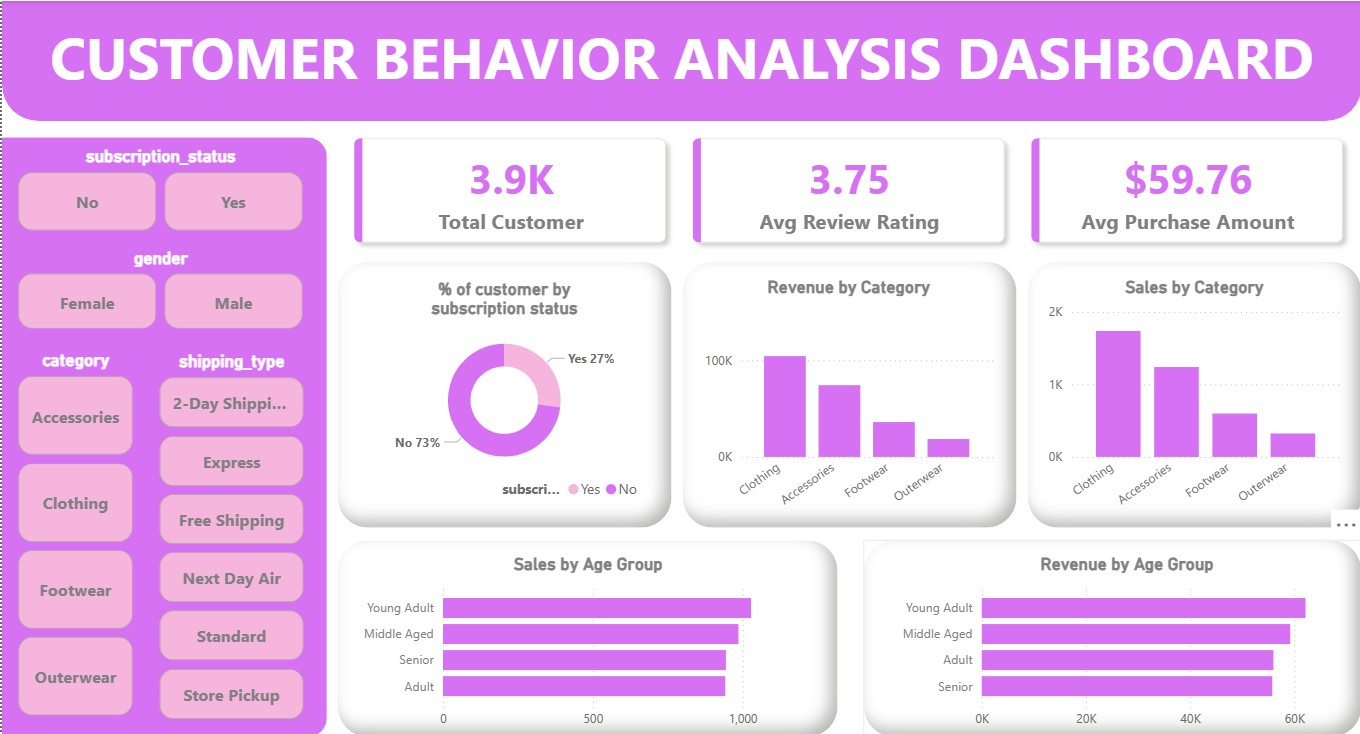

The page's visual inventory and layout, read from the dashboard file:
{"tool":"powerbi","page":{"name":"Page 1","canvas":[1330,720],"ordinal":0},"visuals":[{"type":"cardVisual","fields":{"Data":["public customer.Total customer","public customer.avg review rating","public customer.avg purchase amount"]},"box":[327.7,117.4,1002.7,137],"z":0},{"type":"shape","box":[0,0,1330.4,117.4],"z":1000},{"type":"textbox","box":[0,11,1330.4,94.2],"z":2000},{"type":"donutChart","title":"% of customer by subscription status","fields":{"Category":["public customer.subscription_status"],"Y":["Count(public customer.customer_id)"]},"box":[352.2,254.3,278.8,242.1],"z":3000},{"type":"shape","box":[327.7,254.3,327.7,261.7],"z":4000},{"type":"shape","box":[665.2,254.3,327.7,261.7],"z":5000},{"type":"clusteredColumnChart","title":"Revenue by Category","fields":{"Y":["Sum(public customer.purchase_amount)"],"Category":["public customer.category"]},"box":[682.3,254.3,292.3,261.7],"z":6000},{"type":"shape","box":[1002.7,254.3,327.7,261.7],"z":7000},{"type":"clusteredColumnChart","title":"Sales by Category","fields":{"Y":["CountNonNull(public customer.customer_id)"],"Category":["public customer.category"]},"box":[1018.6,254.3,295.9,261.7],"z":8000},{"type":"shape","box":[0,133.3,317.9,587],"z":9000},{"type":"clusteredBarChart","title":"Revenue  by Age Group","fields":{"Y":["Sum(public customer.purchase_amount)"],"Category":["public customer.age_group"]},"box":[870.7,528.3,459.8,192],"z":10000},{"type":"shape","box":[327.7,527,490.4,193.2],"z":11000},{"type":"shape","box":[842.5,527,487.9,193.2],"z":12000},{"type":"clusteredBarChart","title":"Sales by Age Group","fields":{"Y":["CountNonNull(public customer.customer_id)"],"Category":["public customer.age_group"]},"box":[343.6,528.3,459.8,192],"z":13000},{"type":"advancedSlicerVisual","fields":{"Values":["public customer.subscription_status"]},"box":[11,141.8,288.6,88],"z":14000},{"type":"advancedSlicerVisual","fields":{"Values":["public customer.gender"]},"box":[11.2,241.2,288.8,85],"z":15000},{"type":"advancedSlicerVisual","fields":{"Values":["public customer.category"]},"box":[11.2,341.2,122.5,366.2],"z":16000},{"type":"advancedSlicerVisual","fields":{"Values":["public customer.shipping_type"]},"box":[148.8,342.5,151.2,365],"z":17000}]}

Visuals, with their boxes in screenshot pixels (x1, y1, x2, y2), scaled from the page's 1330x720 canvas onto the 1360x734 screenshot:
cardVisual - public customer.Total customer x public customer.avg review rating: pyautogui.locateOnScreen(335, 120, 1359, 259)
shape: pyautogui.locateOnScreen(0, 0, 1359, 120)
textbox: pyautogui.locateOnScreen(0, 11, 1359, 107)
"% of customer by subscription status" donutChart: pyautogui.locateOnScreen(360, 259, 645, 506)
shape: pyautogui.locateOnScreen(335, 259, 670, 526)
shape: pyautogui.locateOnScreen(680, 259, 1015, 526)
"Revenue by Category" clusteredColumnChart: pyautogui.locateOnScreen(698, 259, 997, 526)
shape: pyautogui.locateOnScreen(1025, 259, 1359, 526)
"Sales by Category" clusteredColumnChart: pyautogui.locateOnScreen(1042, 259, 1344, 526)
shape: pyautogui.locateOnScreen(0, 136, 325, 733)
"Revenue  by Age Group" clusteredBarChart: pyautogui.locateOnScreen(890, 539, 1359, 733)
shape: pyautogui.locateOnScreen(335, 537, 837, 733)
shape: pyautogui.locateOnScreen(862, 537, 1359, 733)
"Sales by Age Group" clusteredBarChart: pyautogui.locateOnScreen(351, 539, 822, 733)
advancedSlicerVisual - public customer.subscription_status: pyautogui.locateOnScreen(11, 145, 306, 234)
advancedSlicerVisual - public customer.gender: pyautogui.locateOnScreen(11, 246, 307, 333)
advancedSlicerVisual - public customer.category: pyautogui.locateOnScreen(11, 348, 137, 721)
advancedSlicerVisual - public customer.shipping_type: pyautogui.locateOnScreen(152, 349, 307, 721)
